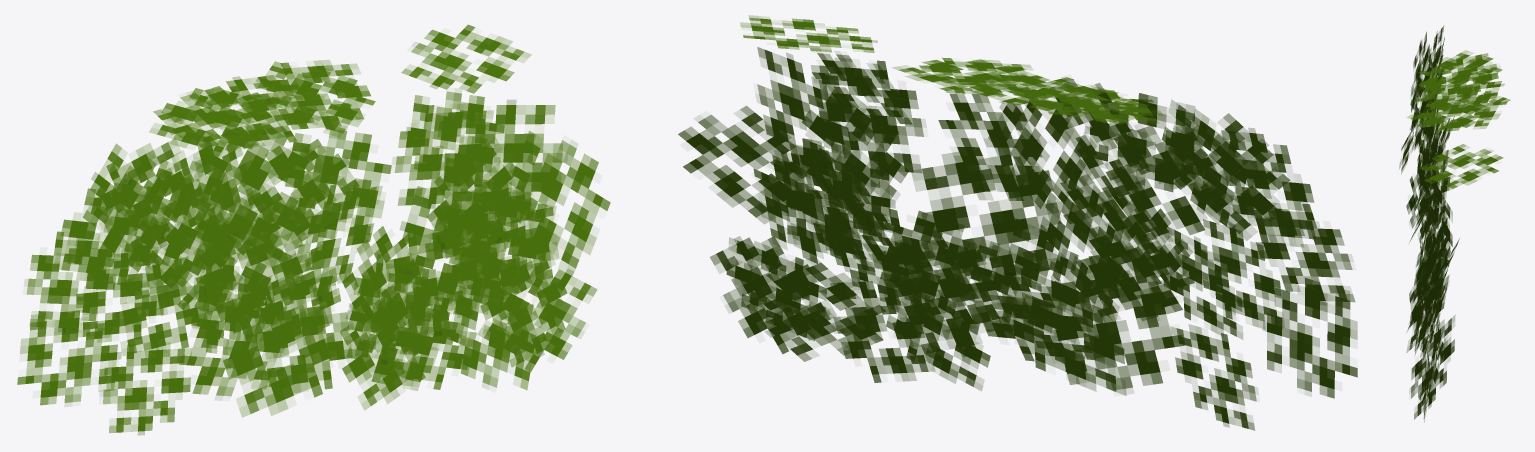
Rendered from ivy_low.glb.
The picture shows the model from 3 angles, left to right: view 1: azimuth 30°, elevation 25°; view 2: azimuth 150°, elevation 25°; view 3: azimuth 270°, elevation 25°; orthographic projection. The views are drawn at different scales.
Visible parts, largest first — view 1: ivy_low_Leaf_Ivy; view 2: ivy_low_Leaf_Ivy; view 3: ivy_low_Leaf_Ivy.
Boxes of the visible parts, bbox=[...] form: ivy_low_Leaf_Ivy: bbox=[17, 24, 610, 435]; ivy_low_Leaf_Ivy: bbox=[678, 15, 1357, 430]; ivy_low_Leaf_Ivy: bbox=[1399, 26, 1510, 421].
Bounding box in the file's own units: 2.95 × 1.62 × 0.6742.
Materials: 1 (1 with a texture image).
